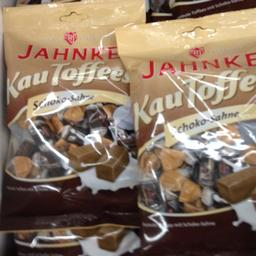candy: (2, 6, 136, 216), (121, 33, 255, 223)
